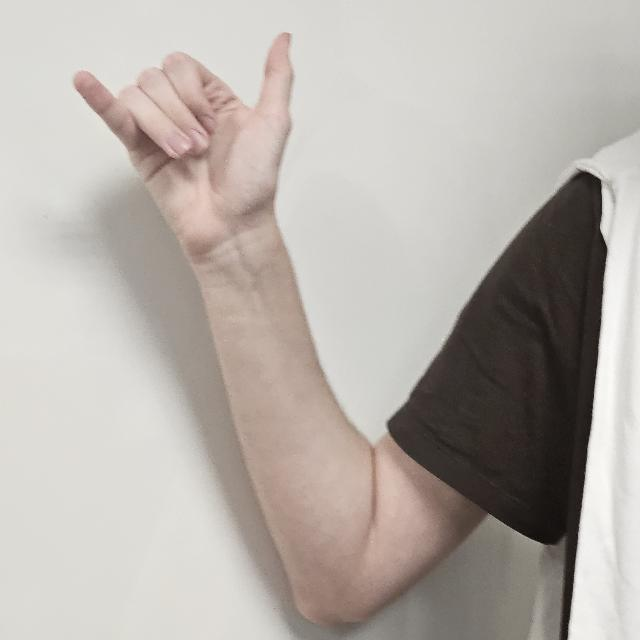Direita: (70, 31, 294, 247)
